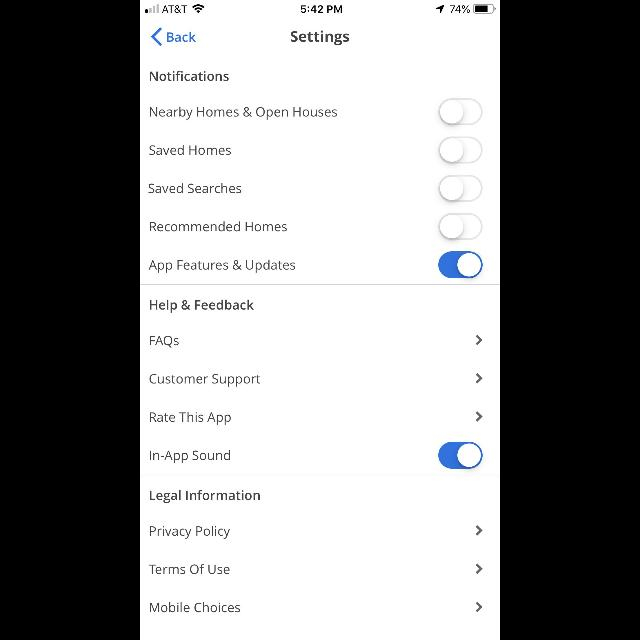icon: (152, 28, 162, 46), (476, 334, 482, 346), (476, 602, 482, 612), (476, 564, 482, 574), (476, 525, 482, 535), (476, 412, 482, 422), (476, 373, 482, 383)
switch: (438, 174, 482, 202), (438, 136, 482, 164), (438, 213, 482, 240), (438, 98, 482, 125), (438, 442, 482, 468), (438, 252, 482, 278)
text: (150, 106, 338, 120), (148, 260, 296, 272), (150, 491, 260, 504), (150, 222, 286, 232), (150, 374, 260, 386), (150, 300, 254, 312), (148, 182, 242, 194), (150, 411, 230, 425), (150, 525, 230, 539), (150, 451, 230, 464), (149, 144, 231, 156), (292, 30, 351, 46), (150, 70, 228, 82), (150, 602, 240, 612), (148, 564, 230, 574), (150, 336, 178, 348), (167, 32, 197, 42)
uppertaskbar: (140, 0, 500, 14)
